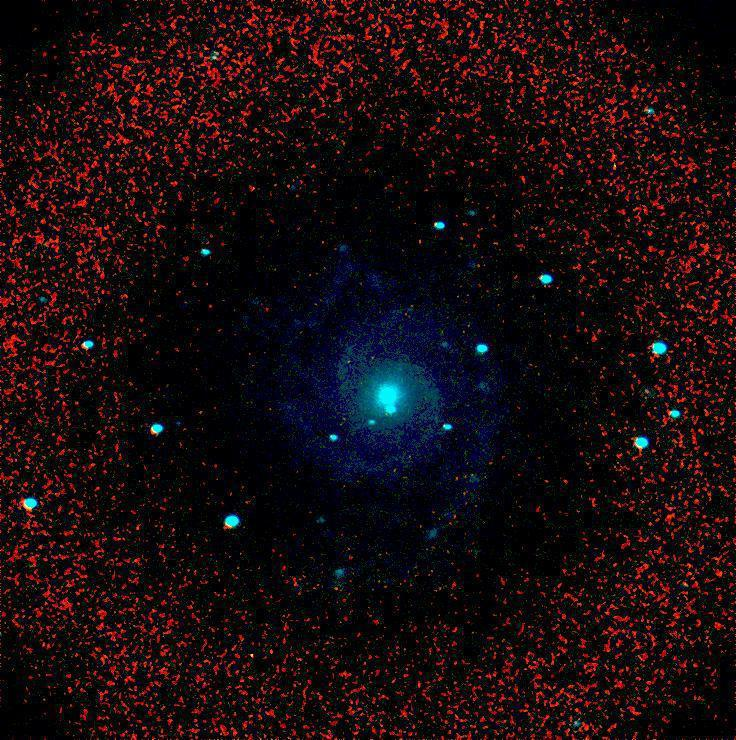star: (194, 292, 224, 322)
